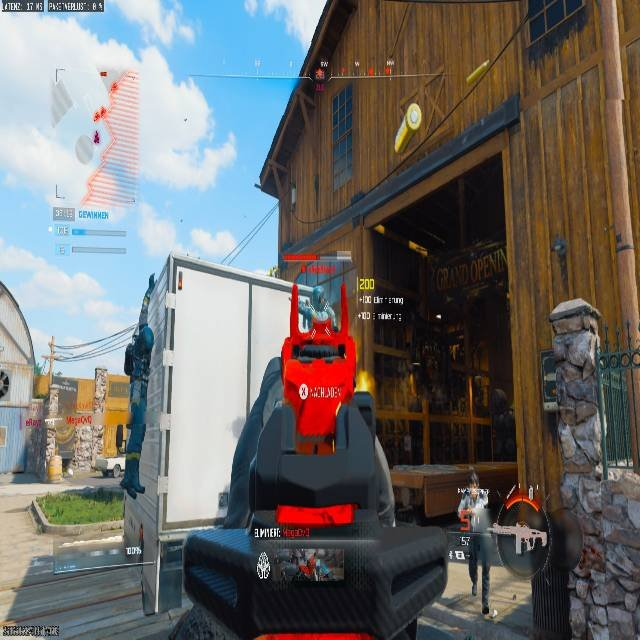head: (311, 285, 326, 307), (466, 471, 479, 491)
player: (457, 470, 494, 614), (301, 284, 339, 337), (0, 367, 9, 407)
